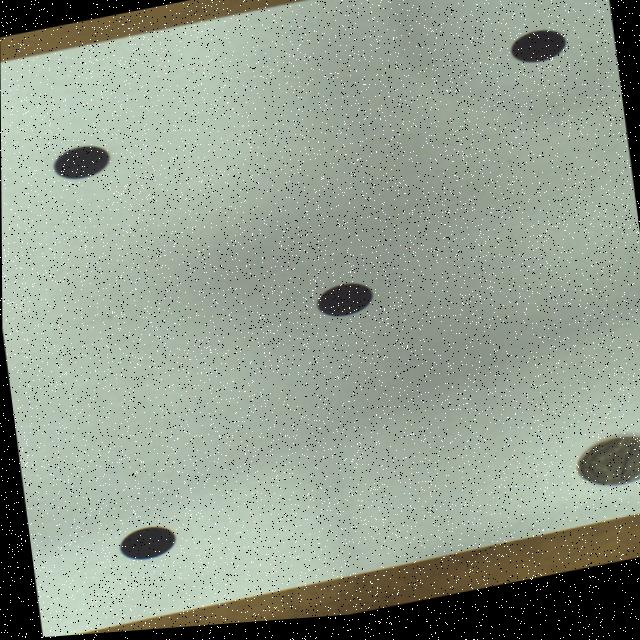space: (315, 288, 372, 322), (118, 528, 175, 561), (52, 147, 108, 180), (511, 38, 563, 70)
tail5bath: (577, 446, 640, 494)
